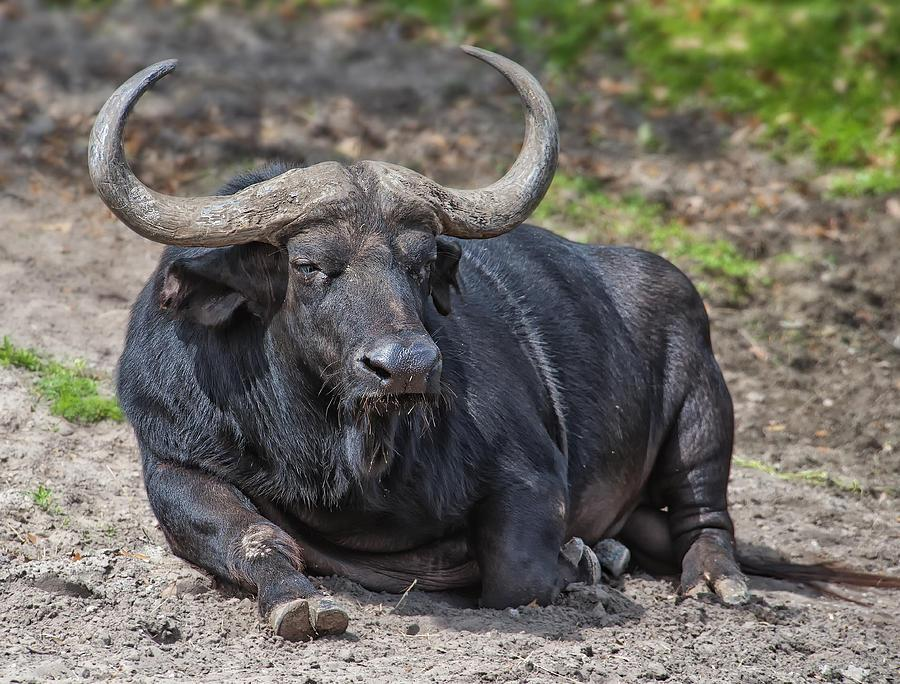Buffalo: (30, 34, 863, 632)
